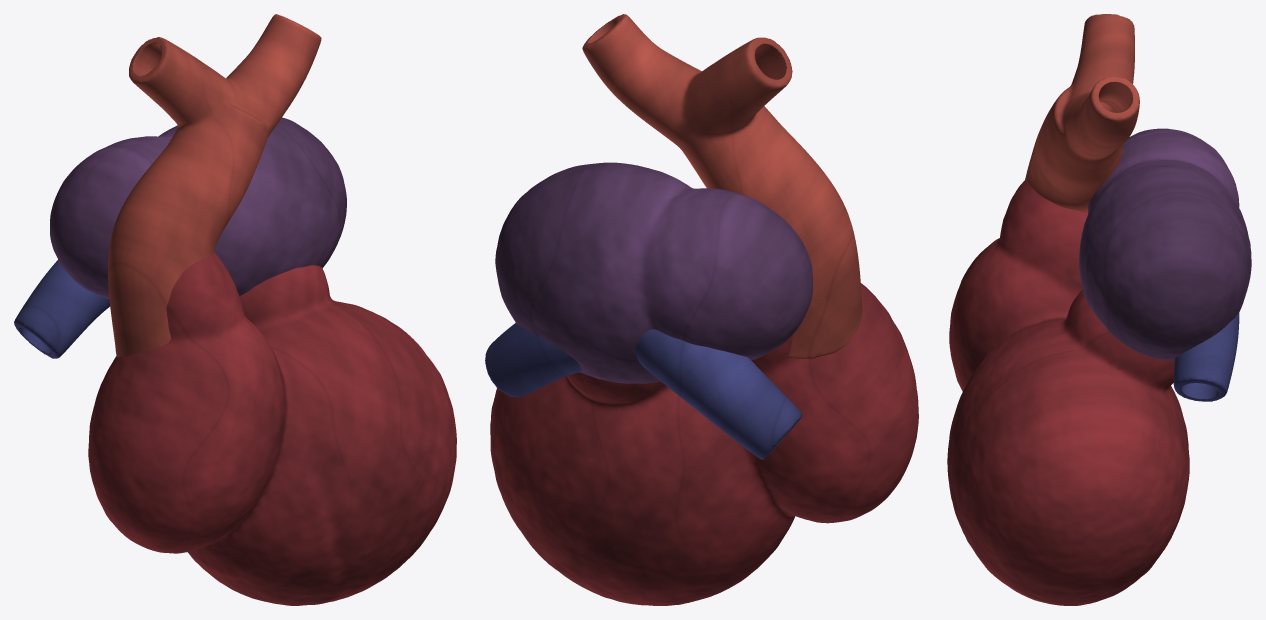
The model's file is WholeHeart_01_Week04_LoopedHeart.glb.
3 views of the same model, side by side, from view 1: azimuth 30°, elevation 25°; view 2: azimuth 150°, elevation 25°; view 3: azimuth 270°, elevation 25° (orthographic). The views are drawn at different scales.
Visible parts, largest first — view 1: VentricularMyocardium, CommonOutflow, CommonAtrium, SinusVenosusAndHorns; view 2: VentricularMyocardium, CommonAtrium, CommonOutflow, SinusVenosusAndHorns; view 3: VentricularMyocardium, CommonAtrium, CommonOutflow, SinusVenosusAndHorns.
Part boxes in pixels (x1,y1,x2,y2): VentricularMyocardium: (88, 252, 456, 605); CommonOutflow: (108, 14, 321, 357); CommonAtrium: (50, 117, 346, 298); SinusVenosusAndHorns: (14, 260, 110, 358); VentricularMyocardium: (490, 283, 918, 605); CommonAtrium: (495, 162, 812, 383); CommonOutflow: (582, 14, 862, 358); SinusVenosusAndHorns: (485, 323, 802, 459); VentricularMyocardium: (947, 180, 1189, 605); CommonAtrium: (1079, 128, 1251, 360); CommonOutflow: (1025, 14, 1139, 212); SinusVenosusAndHorns: (1173, 313, 1239, 401).
Size of the model in its own units: 0.1211 by 0.1827 by 0.0962.
Materials: 4 (4 with a texture image).
